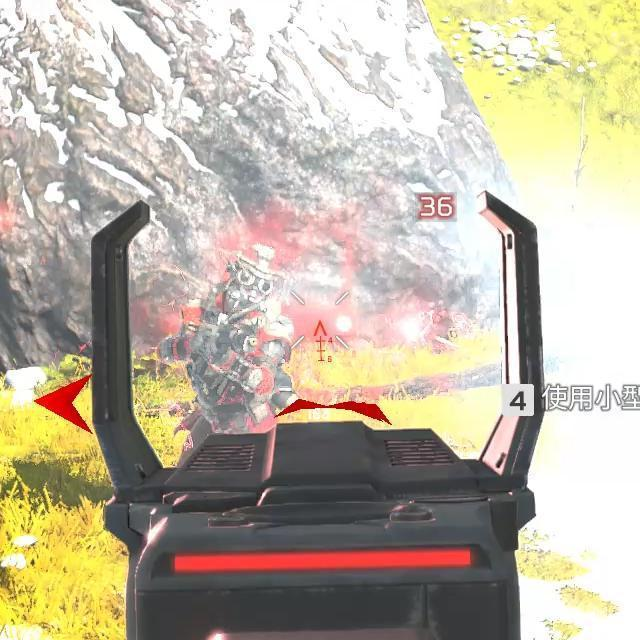avatar: (155, 240, 301, 433)
